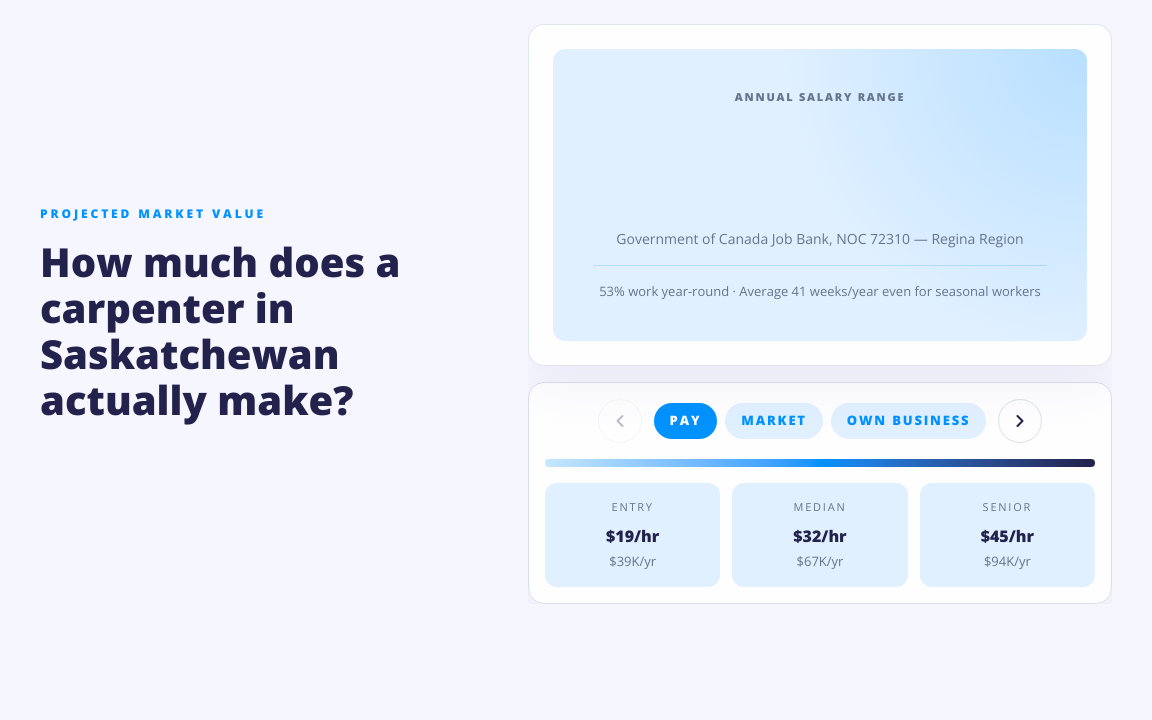
Scenario: ScreenSalary › detail navigation › advances through the detail panels with the next chevron
The width and height of the screenshot is (1152, 720).
Step 1. Click the button named "Show next salary detail" → (1020, 421), box [998,399,1042,443]
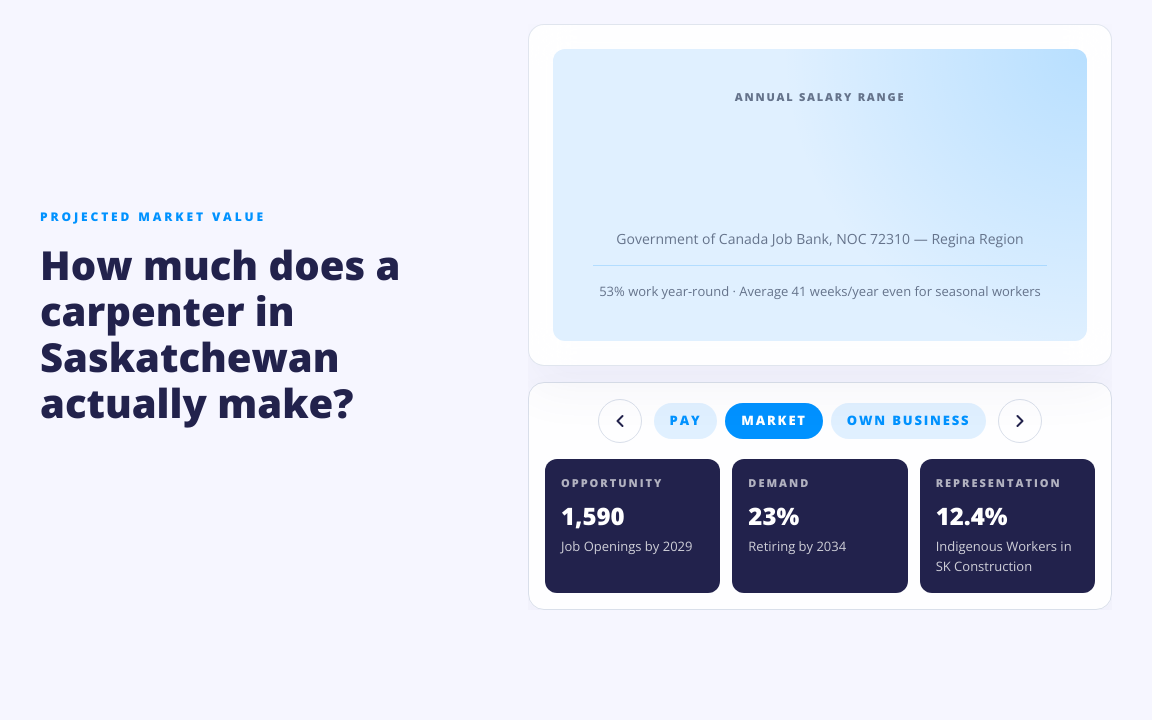
Expected: the text "1,590" is shown, [561,498,625,532]
Step 2. Click the button named "Show next salary detail" → (1020, 421), box [998,399,1042,443]
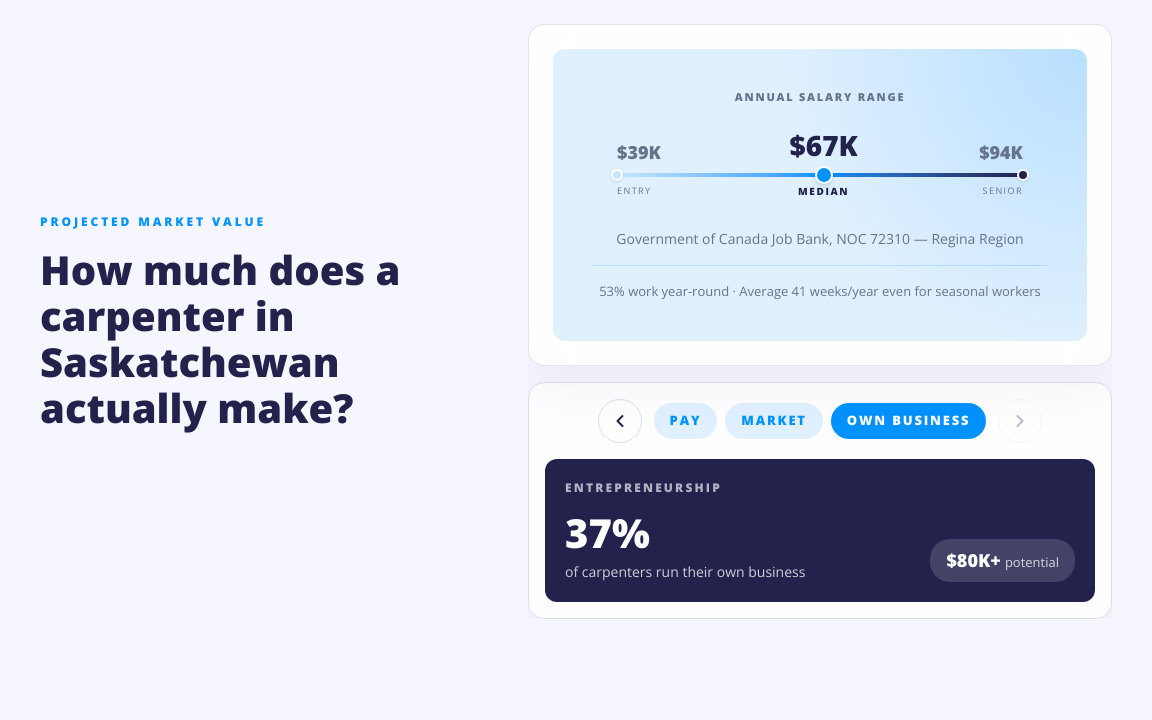
Expected: the text "37%" is shown, [565,505,650,560]
